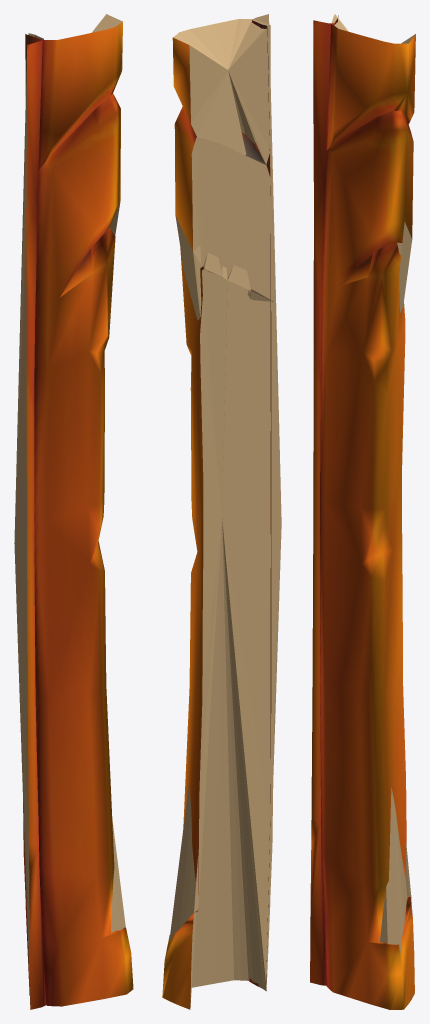
Rendered from wood-brace.glb.
The picture shows the model from 3 angles, left to right: view 1: azimuth 30°, elevation 25°; view 2: azimuth 210°, elevation 25°; view 3: azimuth 330°, elevation 25°; orthographic projection.
Visible parts, largest first — view 1: Carved diagonal brace; view 2: Carved diagonal brace; view 3: Carved diagonal brace.
Boxes of the visible parts, x1,y1,x2,y2 form: Carved diagonal brace: [14, 14, 133, 1009]; Carved diagonal brace: [162, 14, 281, 1009]; Carved diagonal brace: [310, 14, 415, 1009].
Size of the model in its own units: 0.112 by 1 by 0.044.
Materials: 2 (1 with a texture image).
